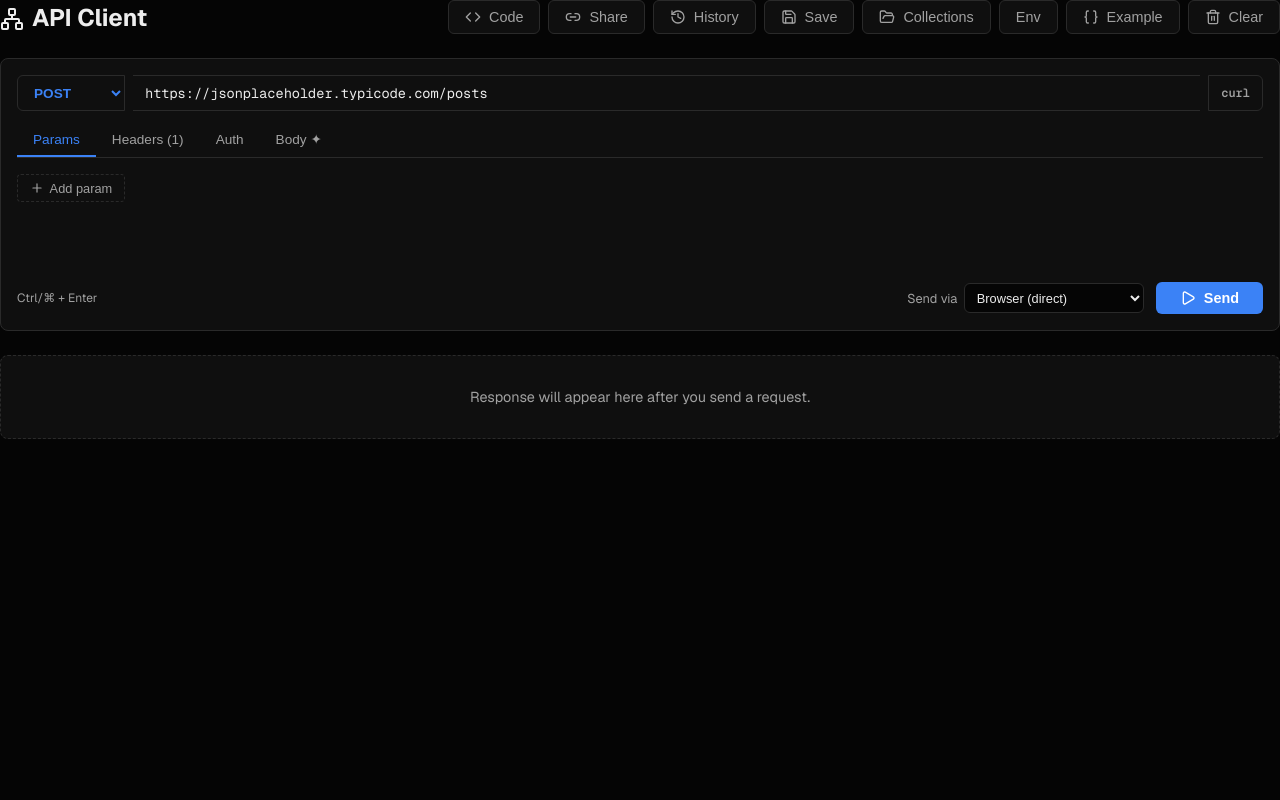
Test: API Client — environments, sharing, collections › deletes a folder only after confirming
The width and height of the screenshot is (1280, 800).
Click the button titled "Save request": (809, 17) [764, 0, 854, 34]
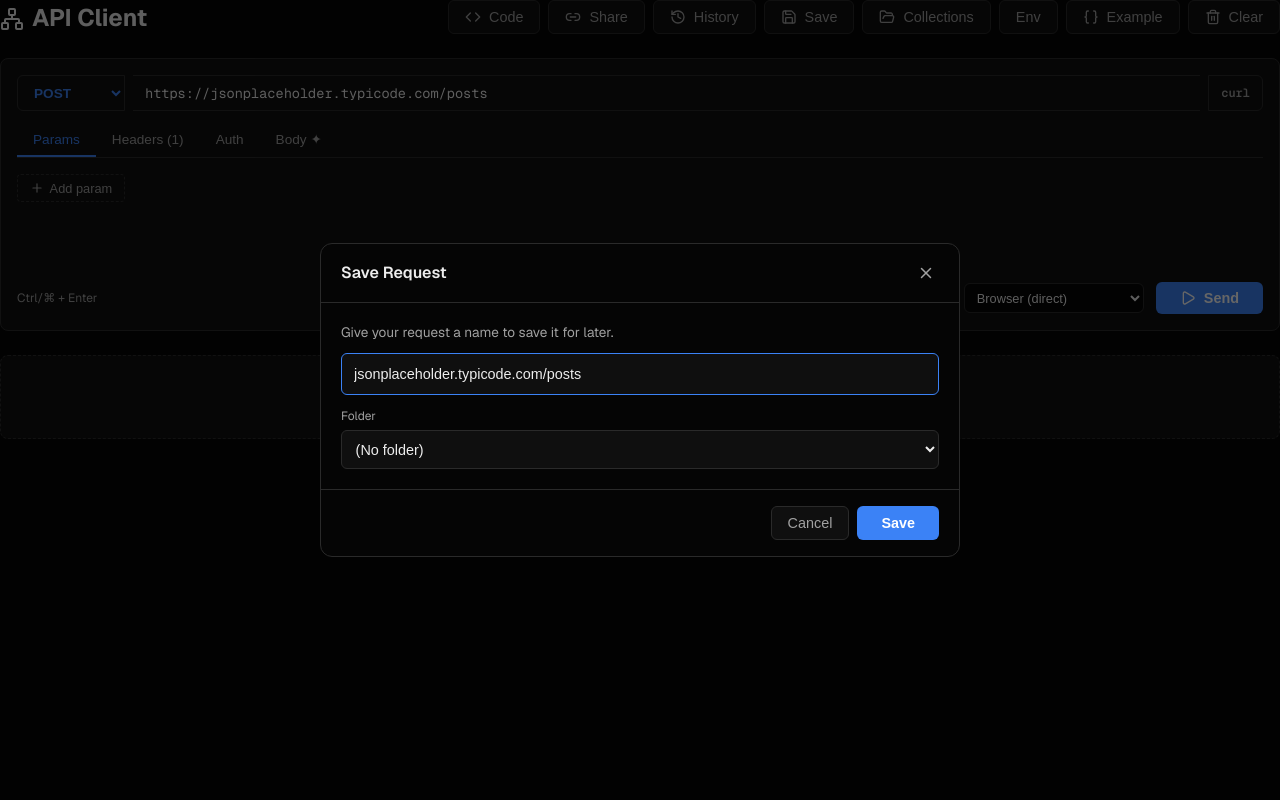
Replace the text in the field with placeholder "Request name" with "A": (640, 374) [341, 353, 939, 395]
Select "+ New folder…" in the dropdown labelled "Folder": (640, 450) [341, 430, 939, 469]
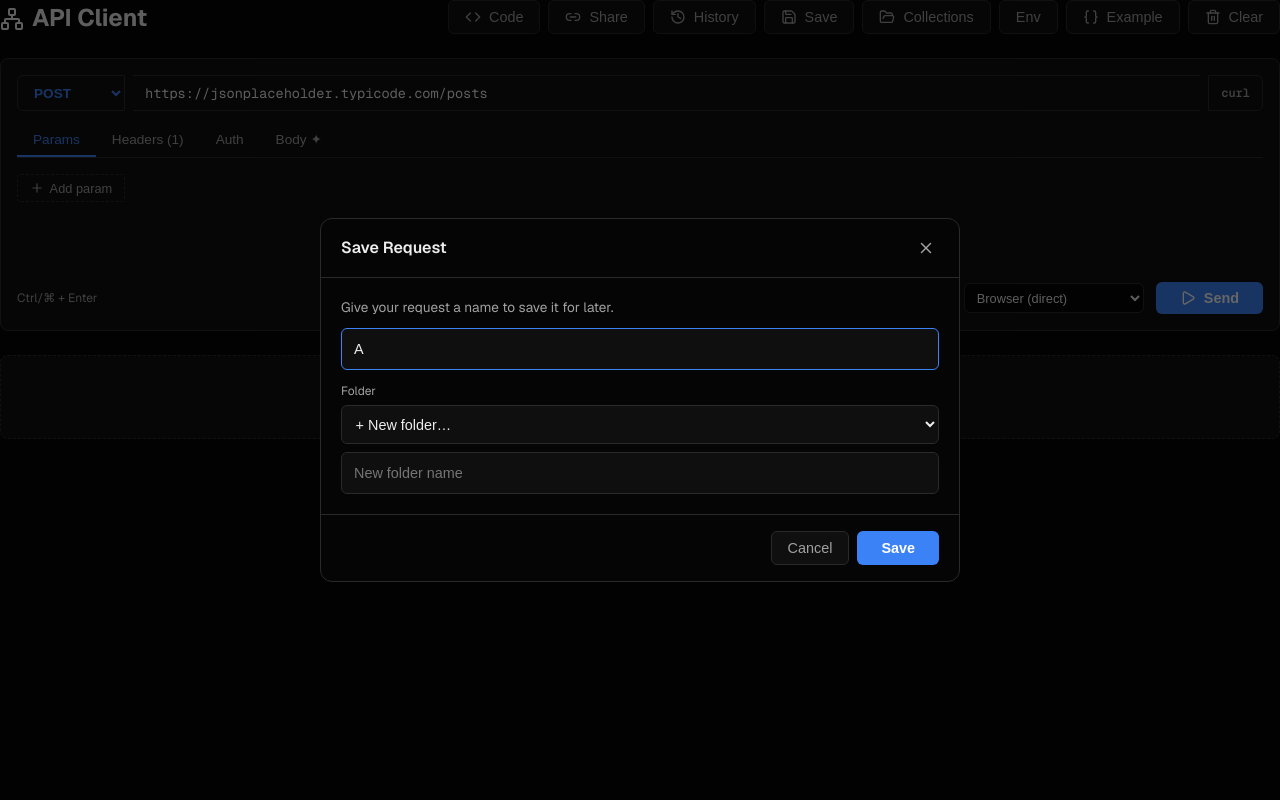
In the field labelled "New folder name": (640, 473) [341, 452, 939, 494], type "Temp"
Click the button "Save": (898, 548) [857, 531, 939, 565]
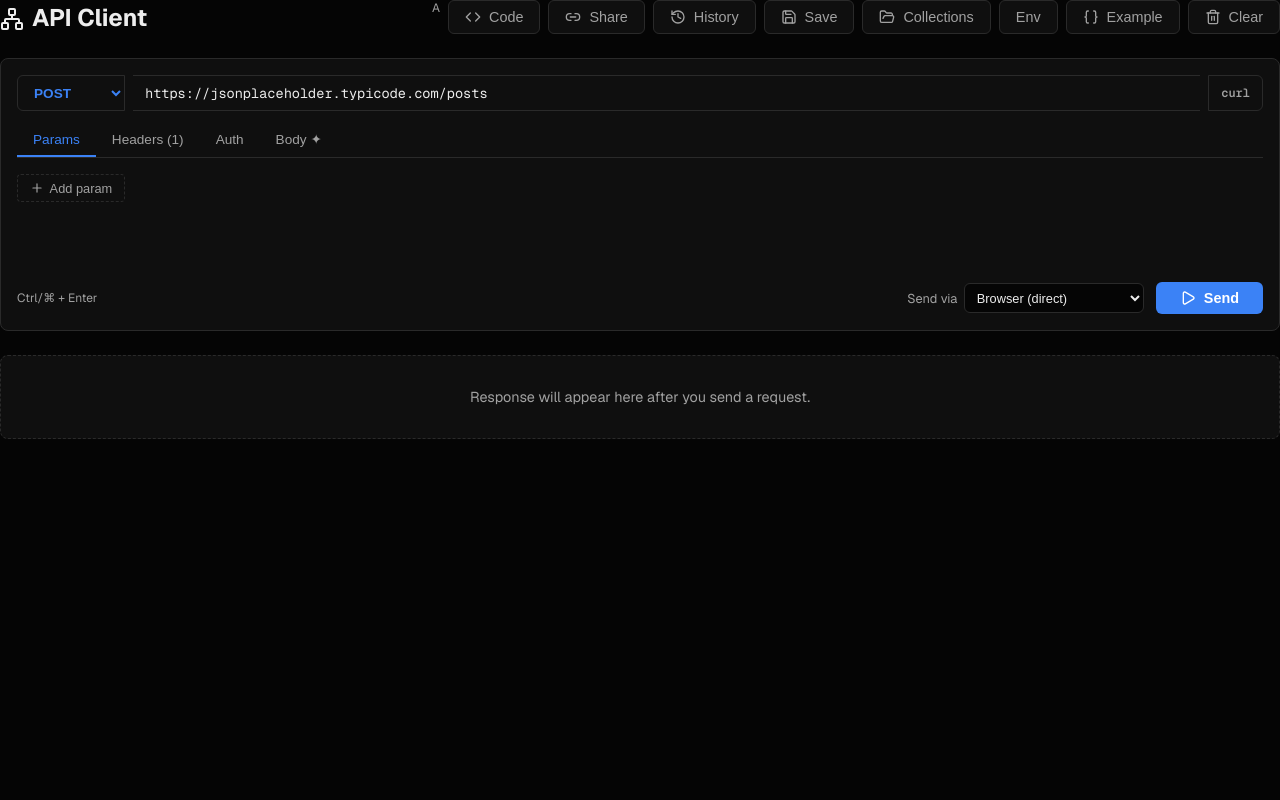
Click the button titled "Saved requests": (927, 17) [862, 0, 991, 34]
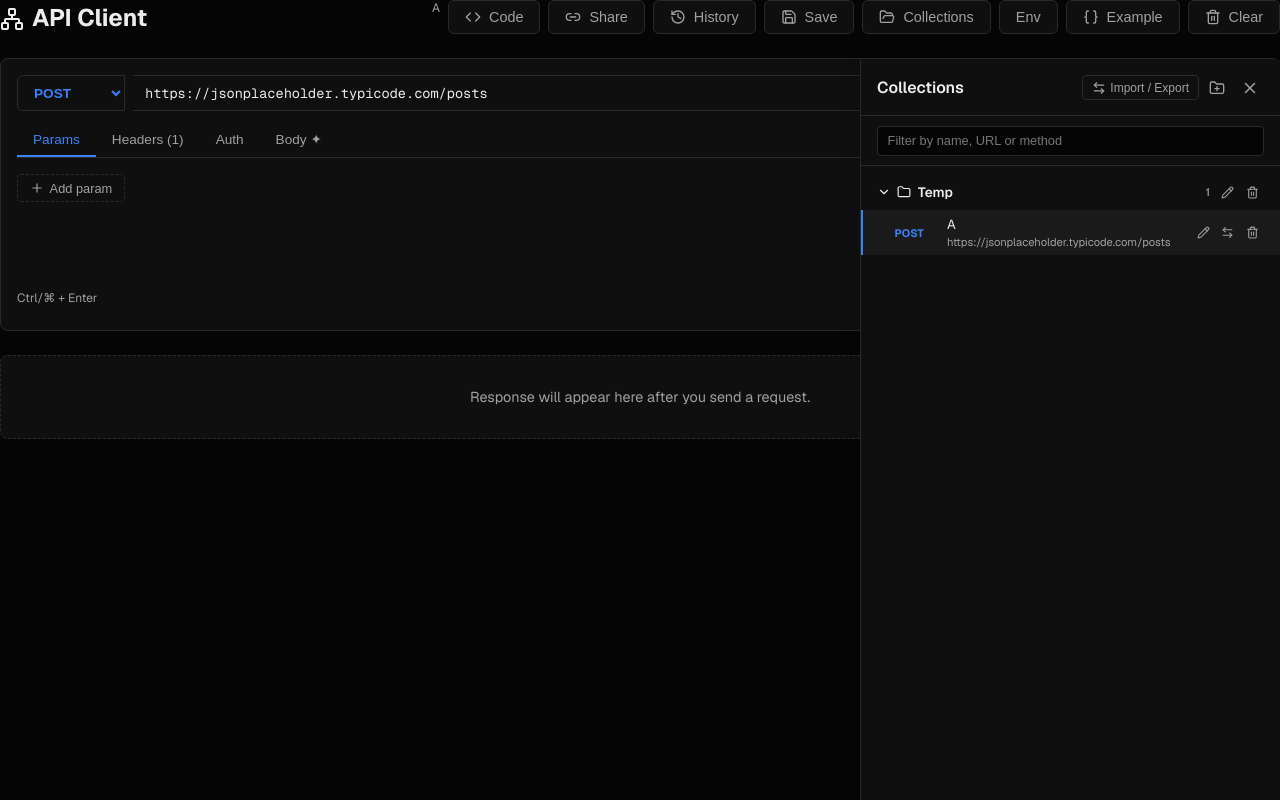
Click the button named "Delete folder Temp": (1252, 192) [1241, 180, 1264, 204]
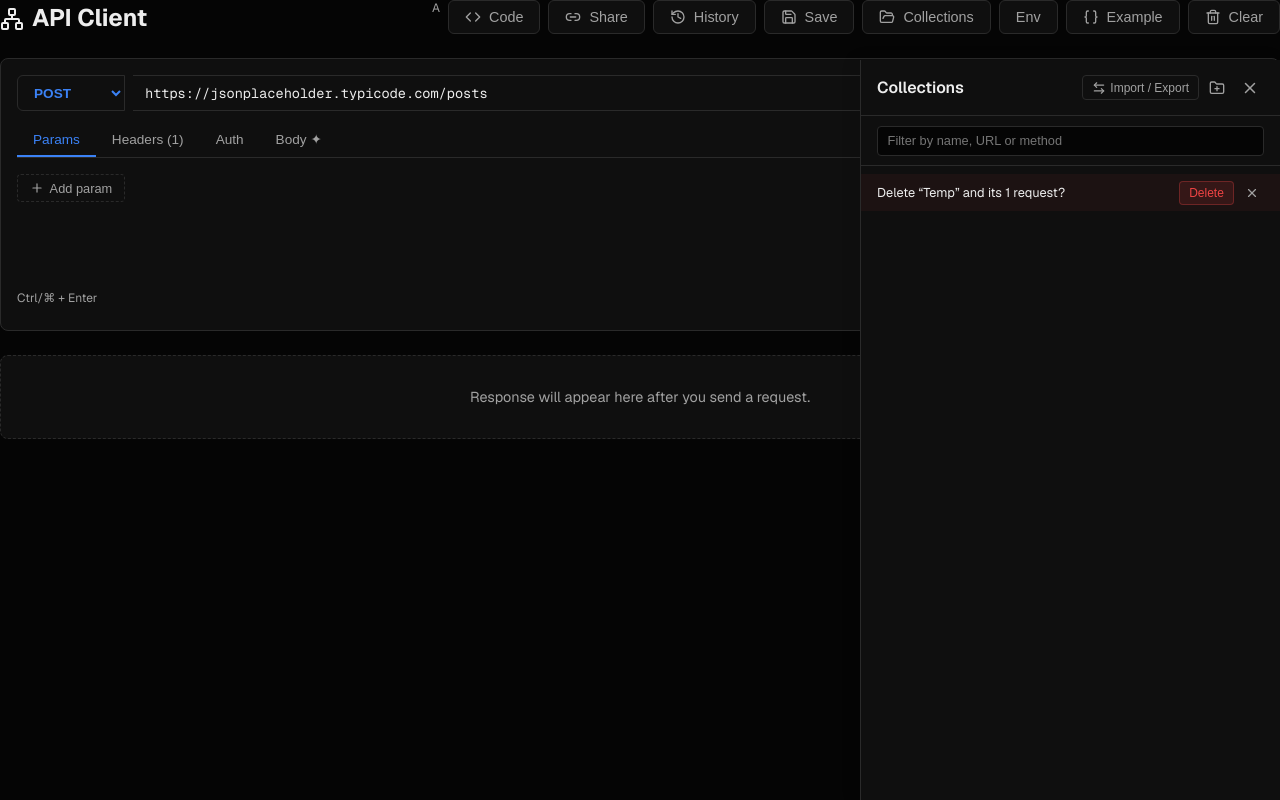
Expected: the text "Delete “Temp” and its 1 request?" is shown, [877, 184, 1065, 201]
Click the button "Delete": (1206, 192) [1179, 180, 1234, 204]
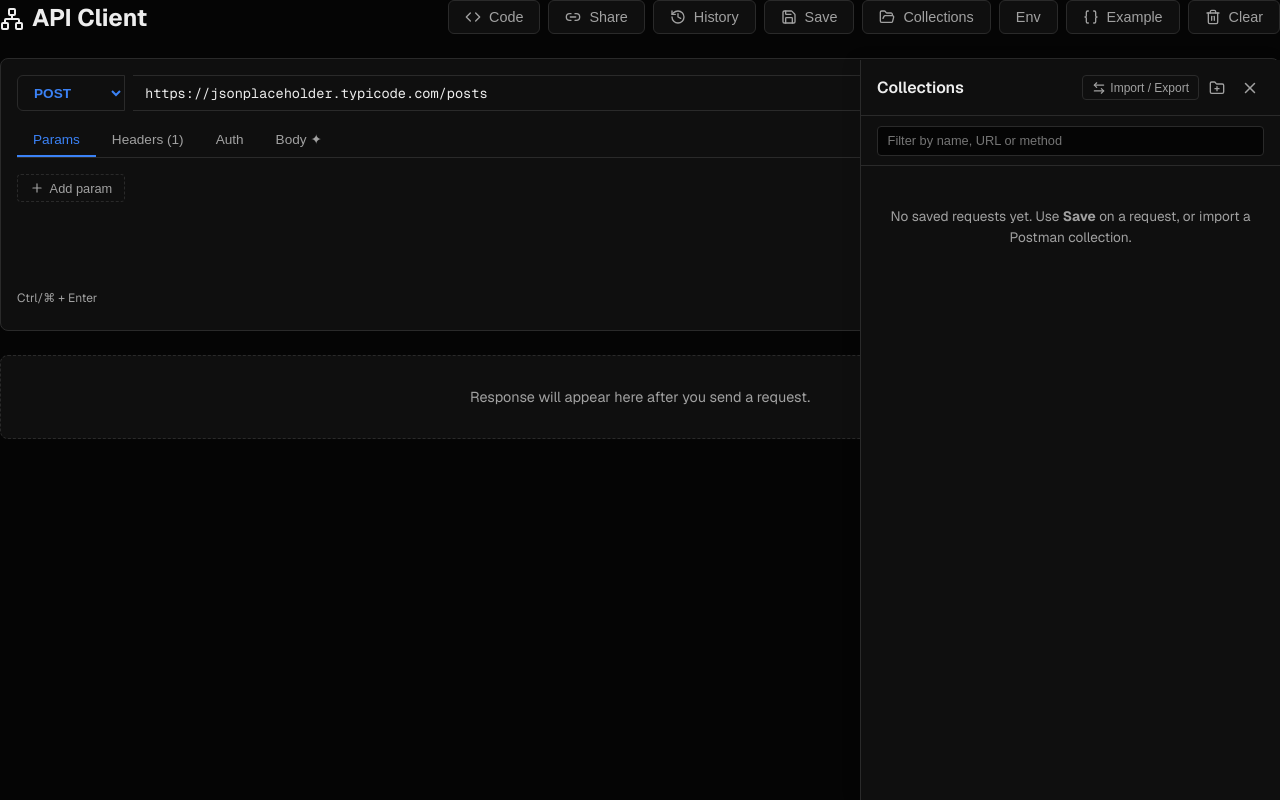
Expected: the text "Temp" is gone
